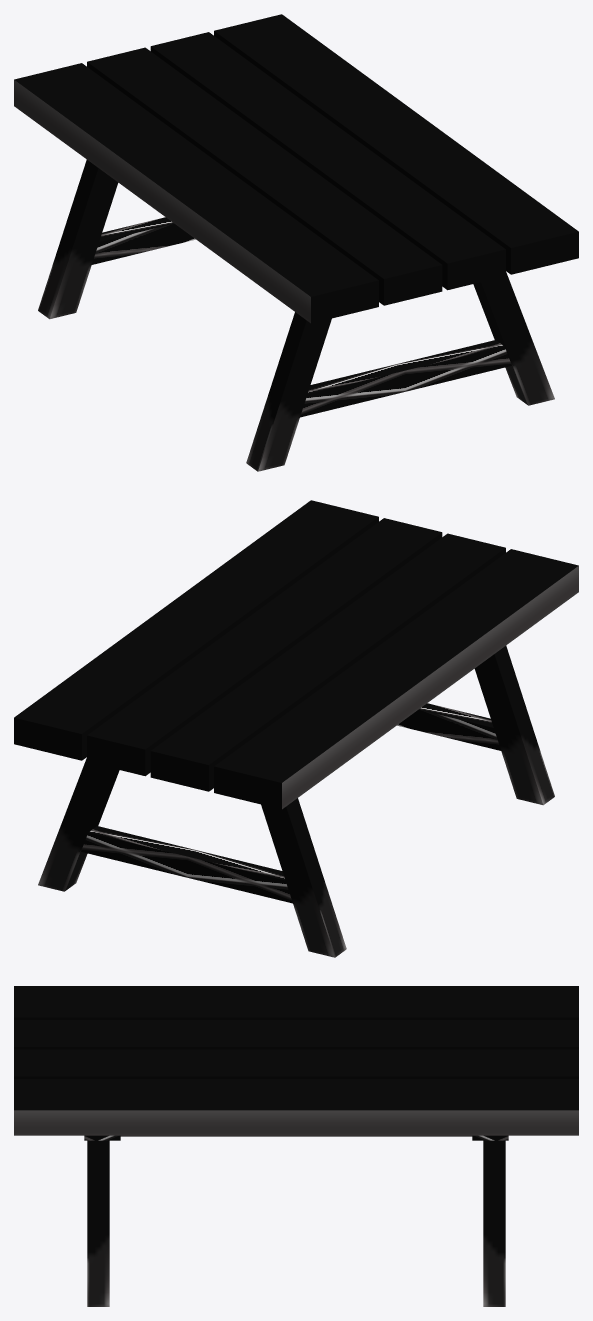
Rendered from picnic_table.fbx.
3 renders of one model, top to bottom at view 1: azimuth 30°, elevation 25°; view 2: azimuth 150°, elevation 25°; view 3: azimuth 270°, elevation 25°, orthographic. The views are drawn at different scales.
Visible parts, largest first — view 1: picnic table; view 2: picnic table; view 3: picnic table.
Part boxes in pixels (x1,y1,x2,y2): picnic table: (14, 14, 578, 471); picnic table: (14, 500, 578, 957); picnic table: (14, 986, 578, 1306).
Bounding box in the file's own units: 117 × 75 × 203.
